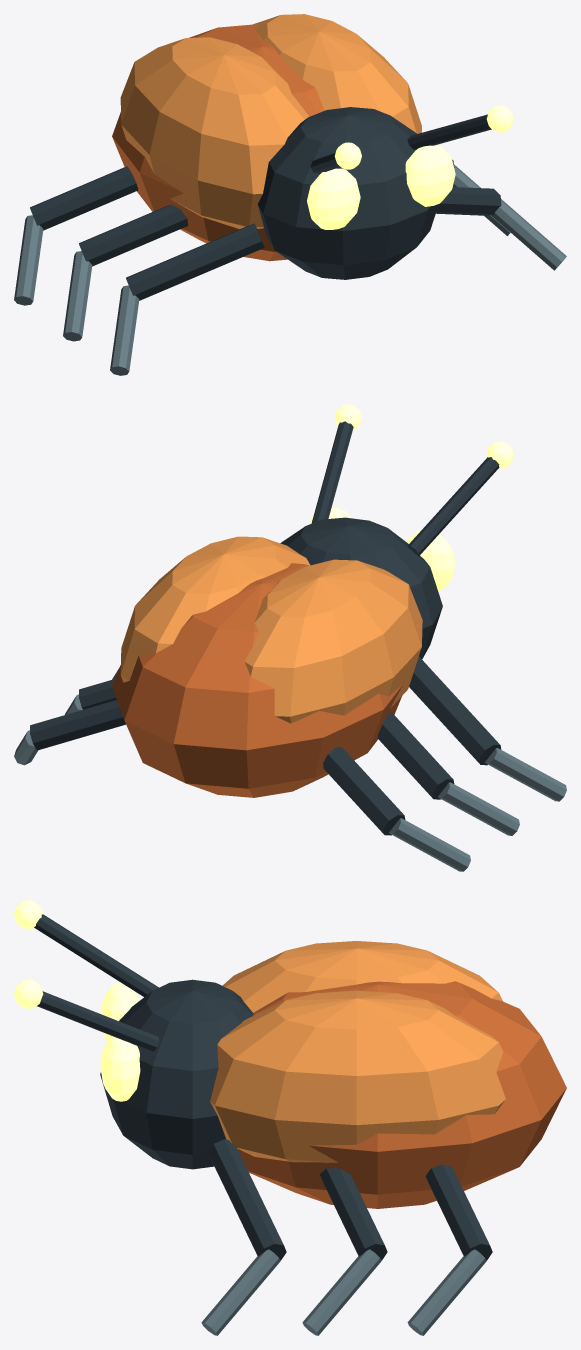
File: bug.glb
3 renders of one model, top to bottom at view 1: azimuth 30°, elevation 25°; view 2: azimuth 150°, elevation 25°; view 3: azimuth 270°, elevation 25°, orthographic. The views are drawn at different scales.
Visible parts, largest first — view 1: Shell left, Head, Foot, Eyes, Abdomen; view 2: Shell left, Abdomen, Head, Foot, Eyes; view 3: Shell left, Head, Abdomen, Foot, Eyes.
Boxes of the visible parts, box(x1,y1,x2,y2) form: Shell left: box(120, 14, 421, 229); Head: box(30, 107, 501, 300); Foot: box(14, 164, 566, 375); Eyes: box(307, 105, 513, 229); Abdomen: box(112, 24, 324, 261); Shell left: box(120, 536, 422, 723); Abdomen: box(112, 563, 403, 797); Head: box(30, 421, 501, 835); Foot: box(14, 668, 566, 871); Eyes: box(310, 404, 513, 591); Shell left: box(210, 941, 505, 1162); Head: box(34, 914, 492, 1260); Abdomen: box(237, 981, 566, 1208); Foot: box(201, 1249, 486, 1335); Eyes: box(14, 900, 140, 1101).
Size of the model in its own units: 1.34 by 0.7352 by 1.32.
